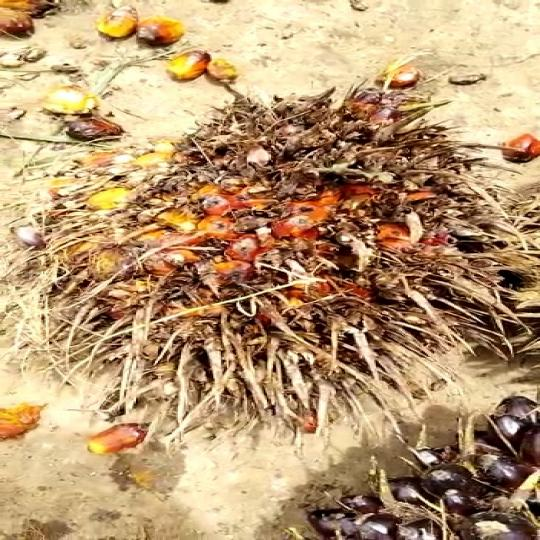terlalu masak: (19, 66, 540, 456)
